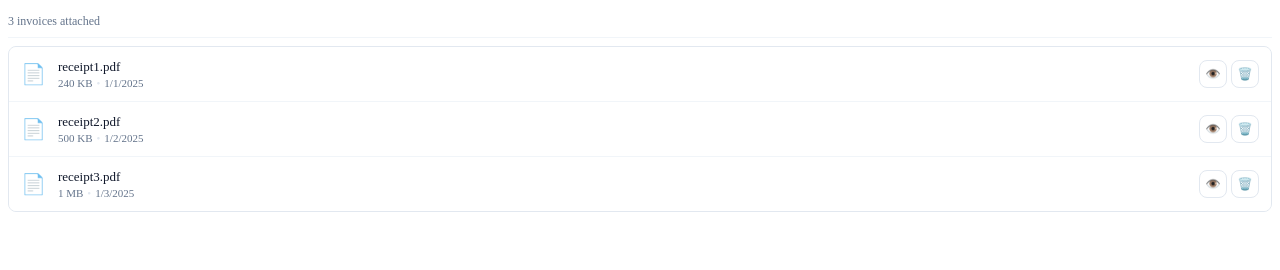
Test case: InvoiceList › shows error when delete fails
# Click delete then confirm
Click the 1st button titled "Delete invoice" at (1245, 74), box [1231, 60, 1259, 88]
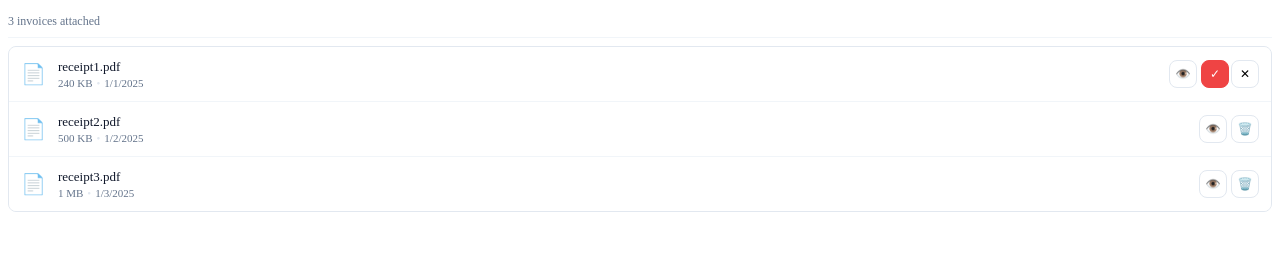
Click the button titled "Confirm delete" at (1215, 74), box [1201, 60, 1229, 88]
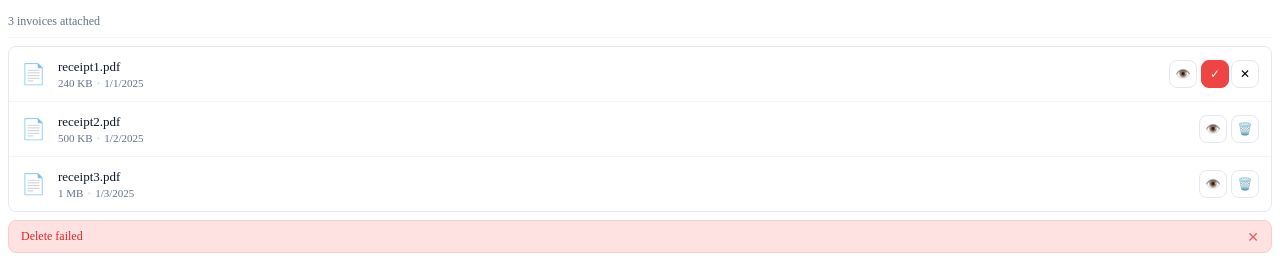
Expected: the text "Delete failed" is shown, [21, 229, 83, 243]
